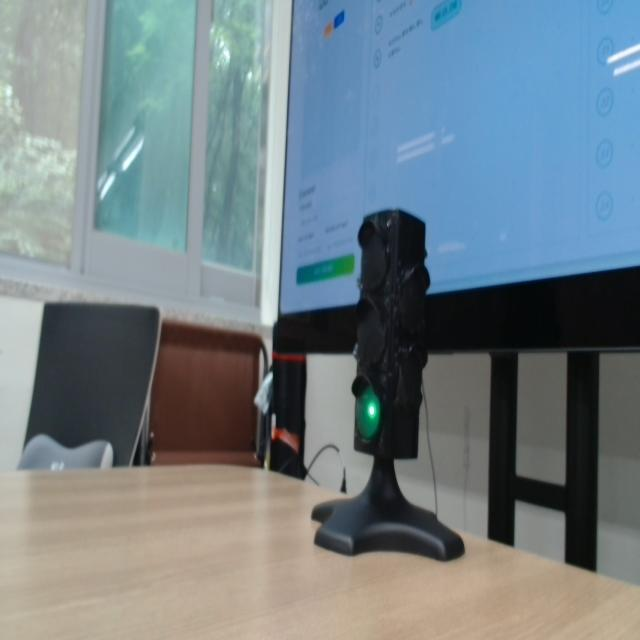green_light: (356, 386, 380, 440)
